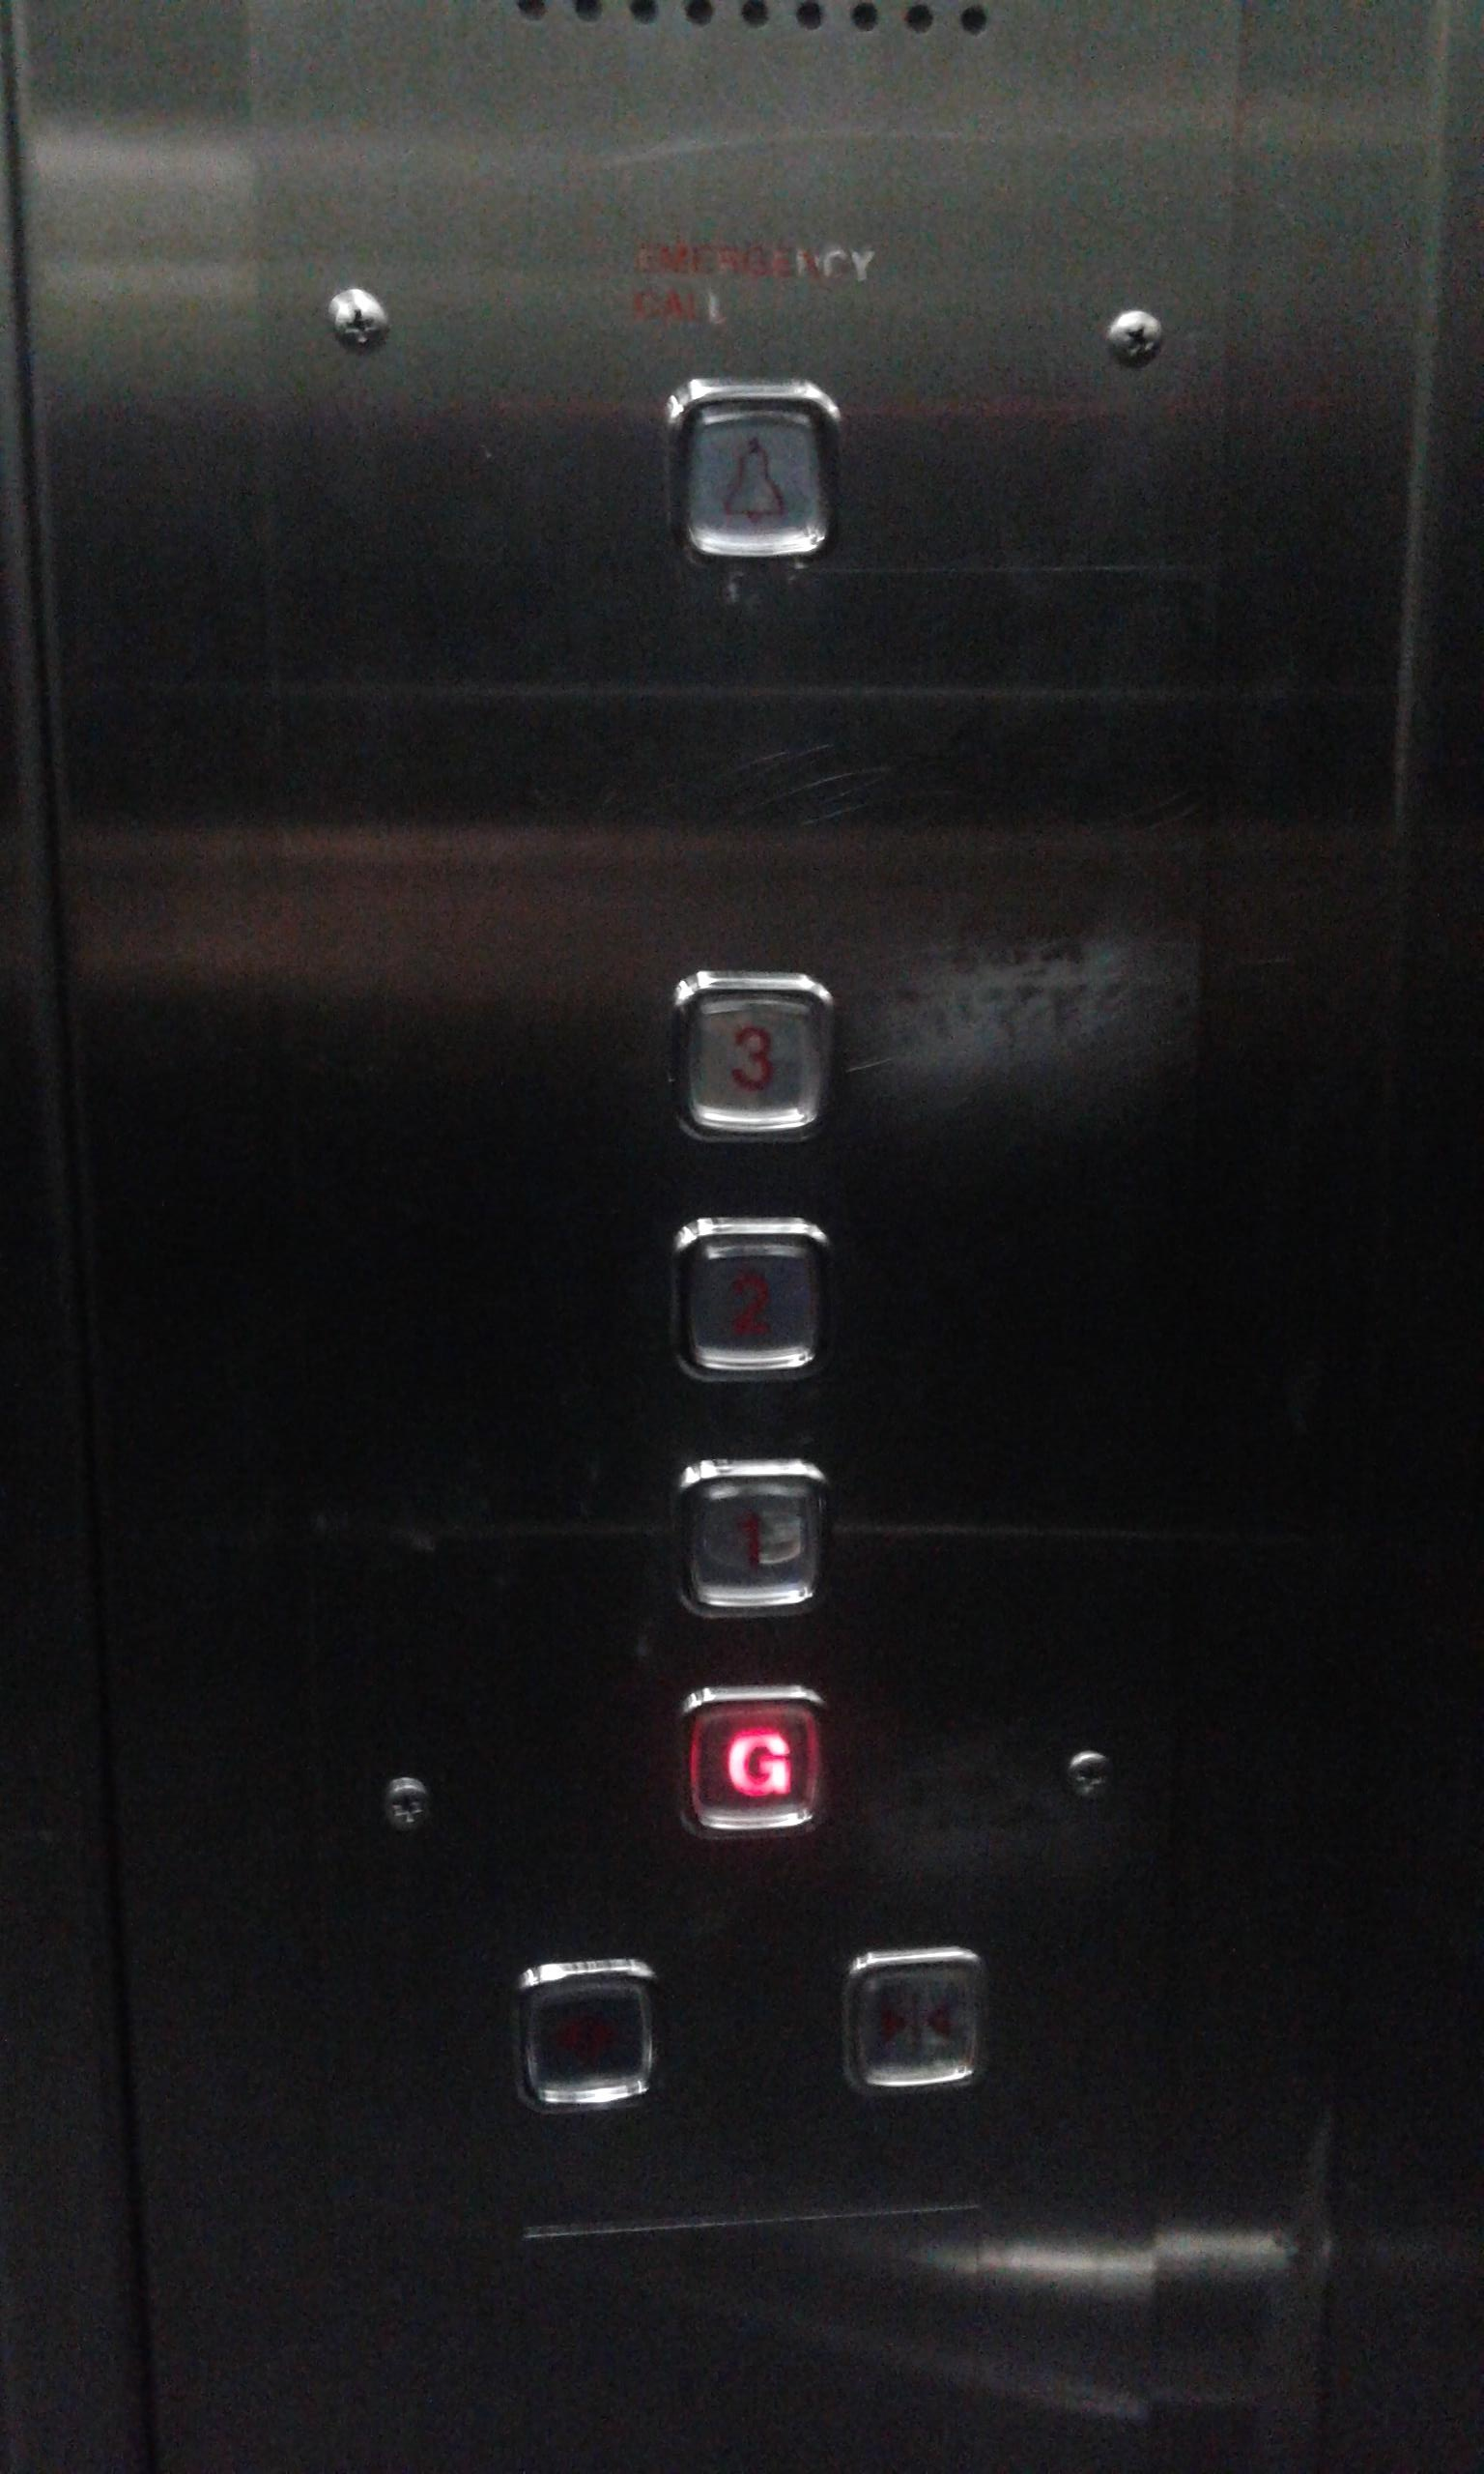1: (655, 1451, 837, 1631)
2: (657, 1209, 839, 1396)
3: (662, 960, 844, 1156)
G: (668, 1673, 837, 1852)
alarm: (650, 362, 860, 592)
blur: (496, 1946, 664, 2124)
close: (829, 1935, 996, 2112)
